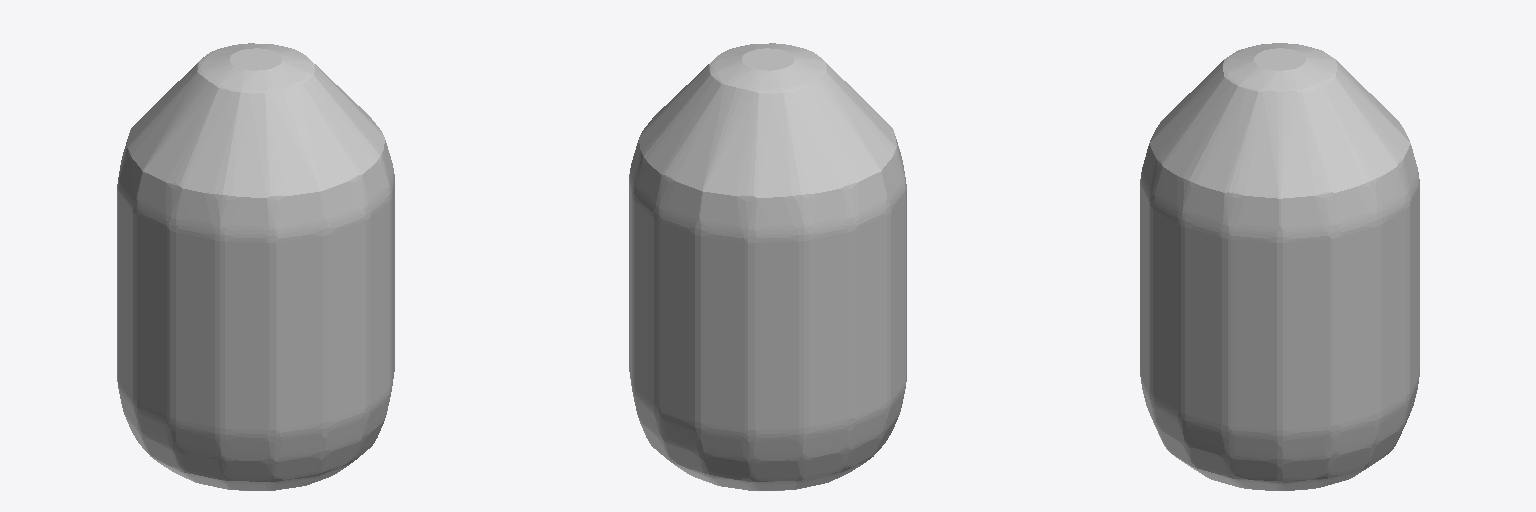
Rendered from Soap_Bottle_10_collision_0.obj.
3 renders of one model, left to right at view 1: azimuth 30°, elevation 25°; view 2: azimuth 150°, elevation 25°; view 3: azimuth 270°, elevation 25°, orthographic.
Size of the model in its own units: 0.1267 by 0.1966 by 0.1268.